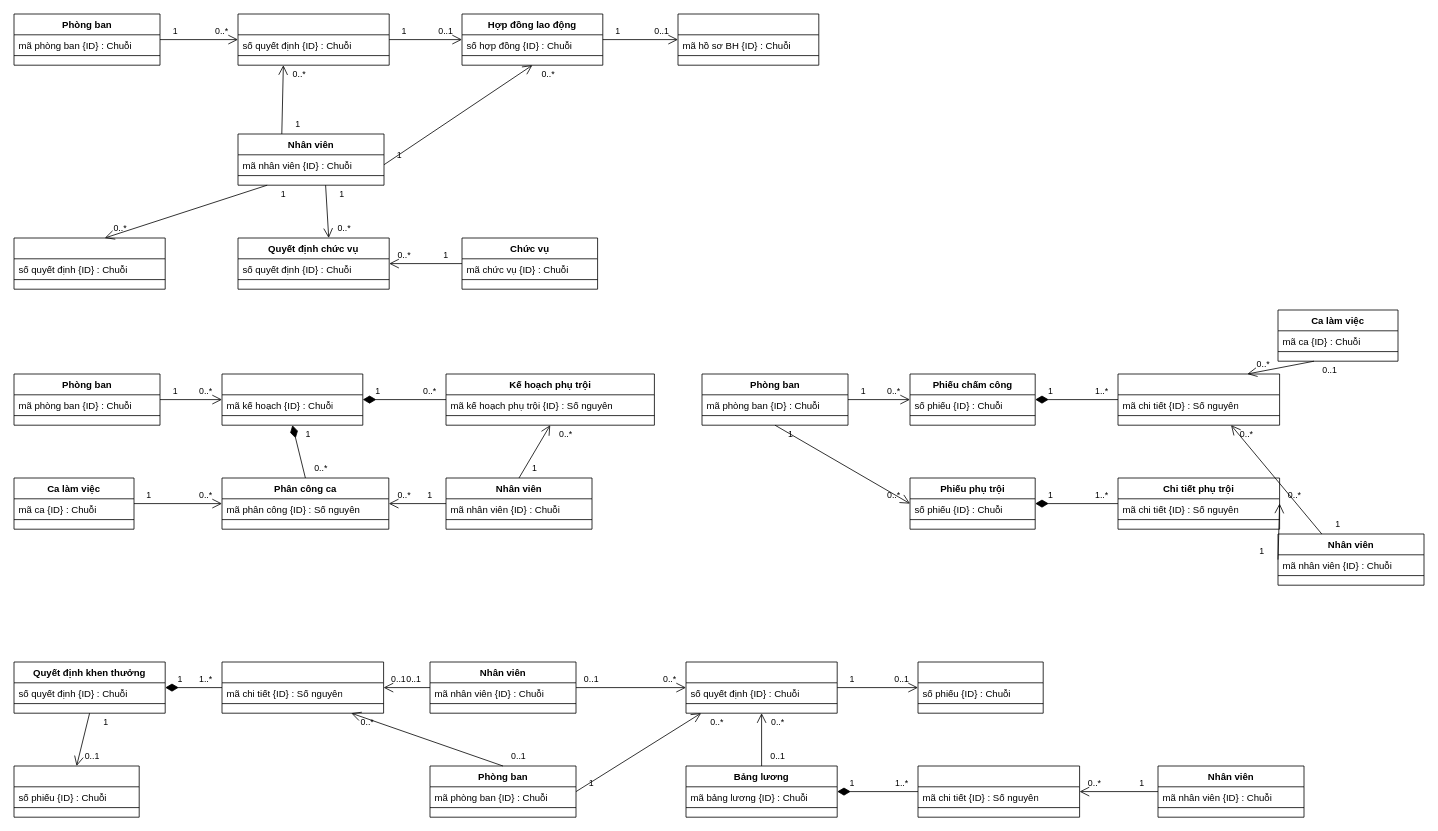
Image size: 1438x831. Some labels were removed from this diagram. Here are the shapes that lost their labels. From the top down, the box of each, then its label:
(237, 13, 389, 65): Quyết định tuyển dụng
(677, 13, 819, 65): Hồ sơ bảo hiểm
(13, 237, 165, 289): Quyết định lương
(221, 373, 363, 425): Kế hoạch tuần
(1117, 373, 1280, 425): Chi tiết chấm công
(221, 661, 384, 713): Chi tiết khen thưởng
(685, 661, 837, 713): Quyết định kỷ luật
(917, 661, 1043, 713): Phiếu thu nộp phạt
(13, 765, 139, 817): Phiếu chi khen thưởng
(917, 765, 1080, 817): Chi tiết bảng lương
